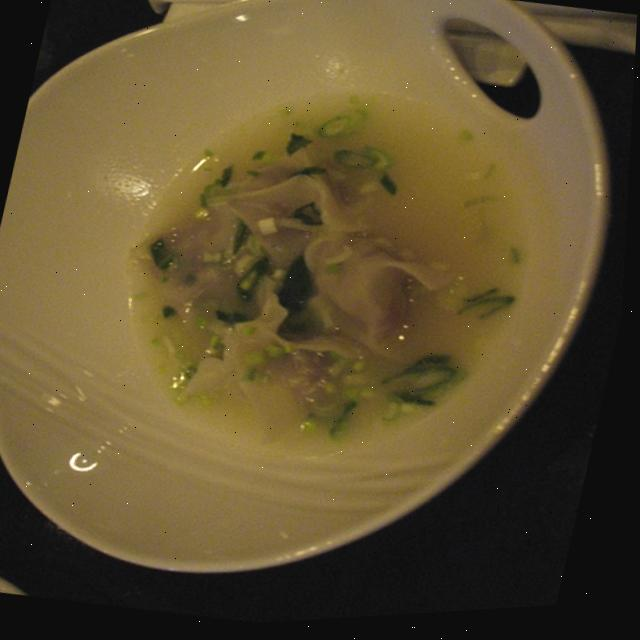汤锅炖物: (111, 79, 512, 501)
